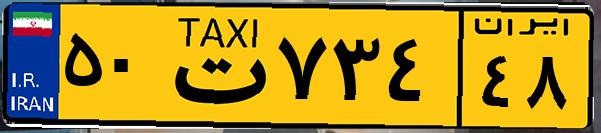0: (110, 28, 158, 98)
3: (330, 28, 385, 110)
4: (385, 28, 445, 110), (475, 38, 525, 113)
5: (57, 26, 110, 100)
7: (270, 28, 330, 110)
8: (525, 38, 570, 115)
ت: (158, 12, 270, 120)
